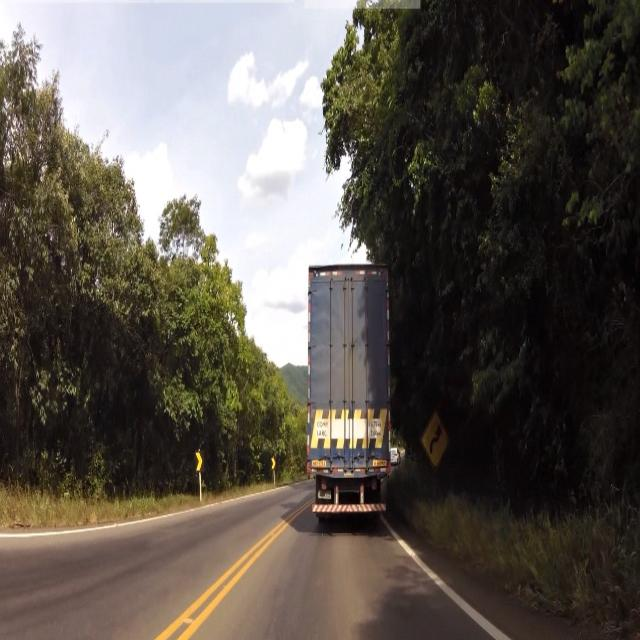A-4b: (417, 405, 454, 473)
E-5: (193, 444, 204, 471)
